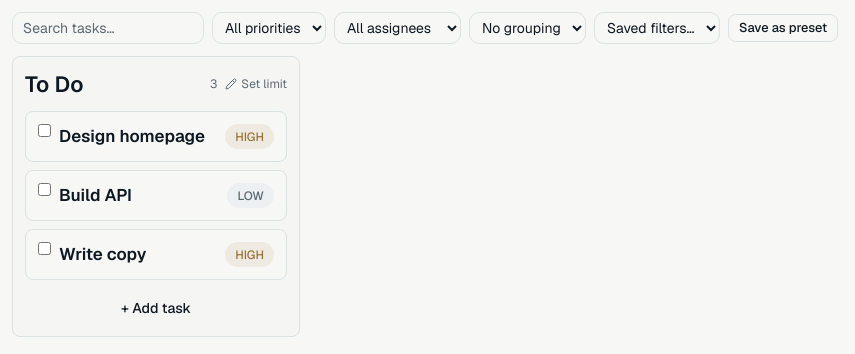
Test: KanbanBoard filters › filters tasks by priority
This screenshot has width=855, height=354.
Select "Low" in the dropdown named "Filter by priority". click: coordinates (269, 28)
box: x1=212 y1=12 x2=326 y2=44
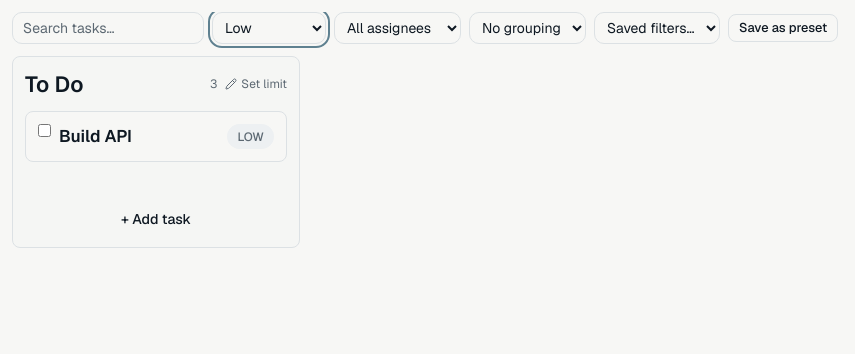
Check: the heading "Build API" is shown, box x1=59 y1=124 x2=132 y2=149
Check: the heading "Design homepage" is gone
